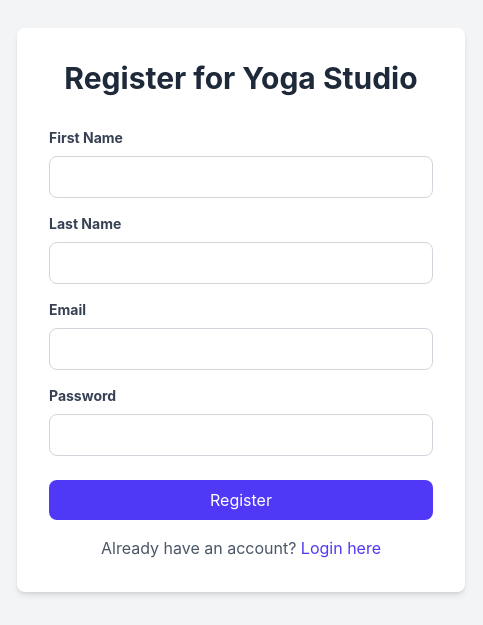
Test: Register page › shows a duplicate email as an email field error
Type "Yoga" into the field labelled "First Name" at point(241, 177), box [49,156,433,198]
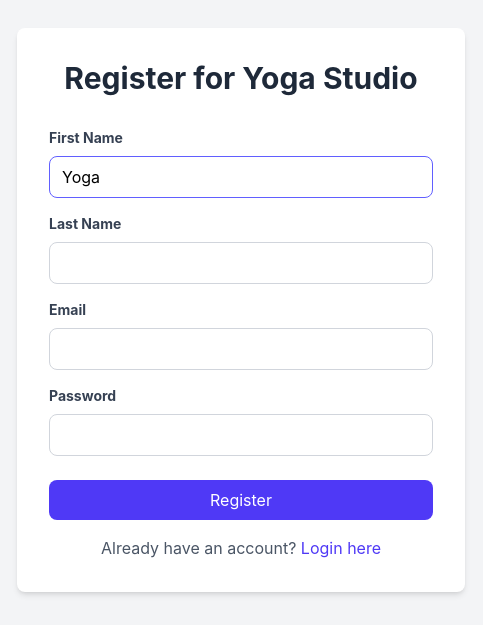
Type "Member" into the field labelled "Last Name" at point(241, 263), box [49,242,433,284]
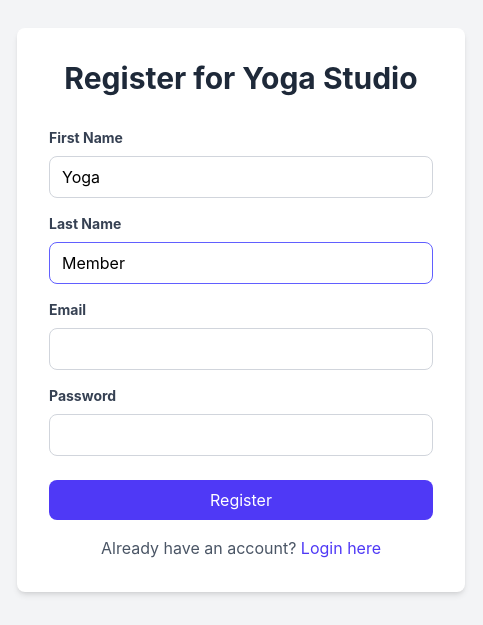
Type "member@example.com" into the field labelled "Email" at point(241, 349), box [49,328,433,370]
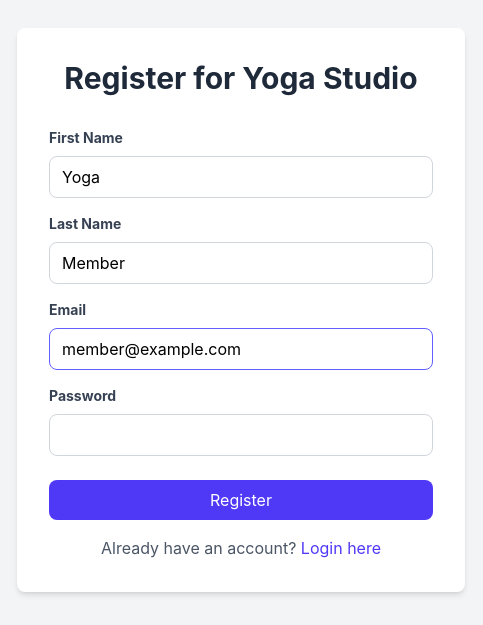
Type "Secret123!" into the password field labelled "Password" at point(241, 435), box [49,414,433,456]
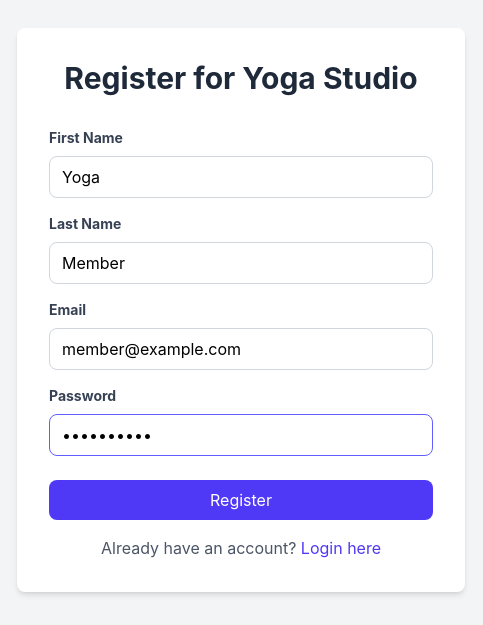
Click the button "Register" at point(241, 500), box [49,480,433,520]
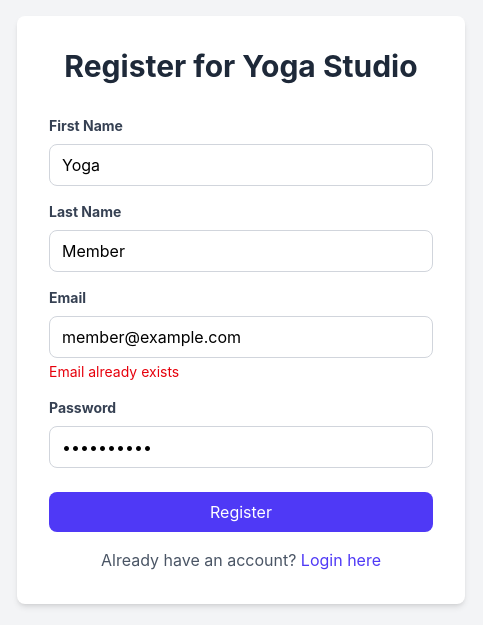
Result: the message reads "Email already exists" at [49,363,179,380]
Result: the text "Email already exists" is shown once at [49,363,179,380]
